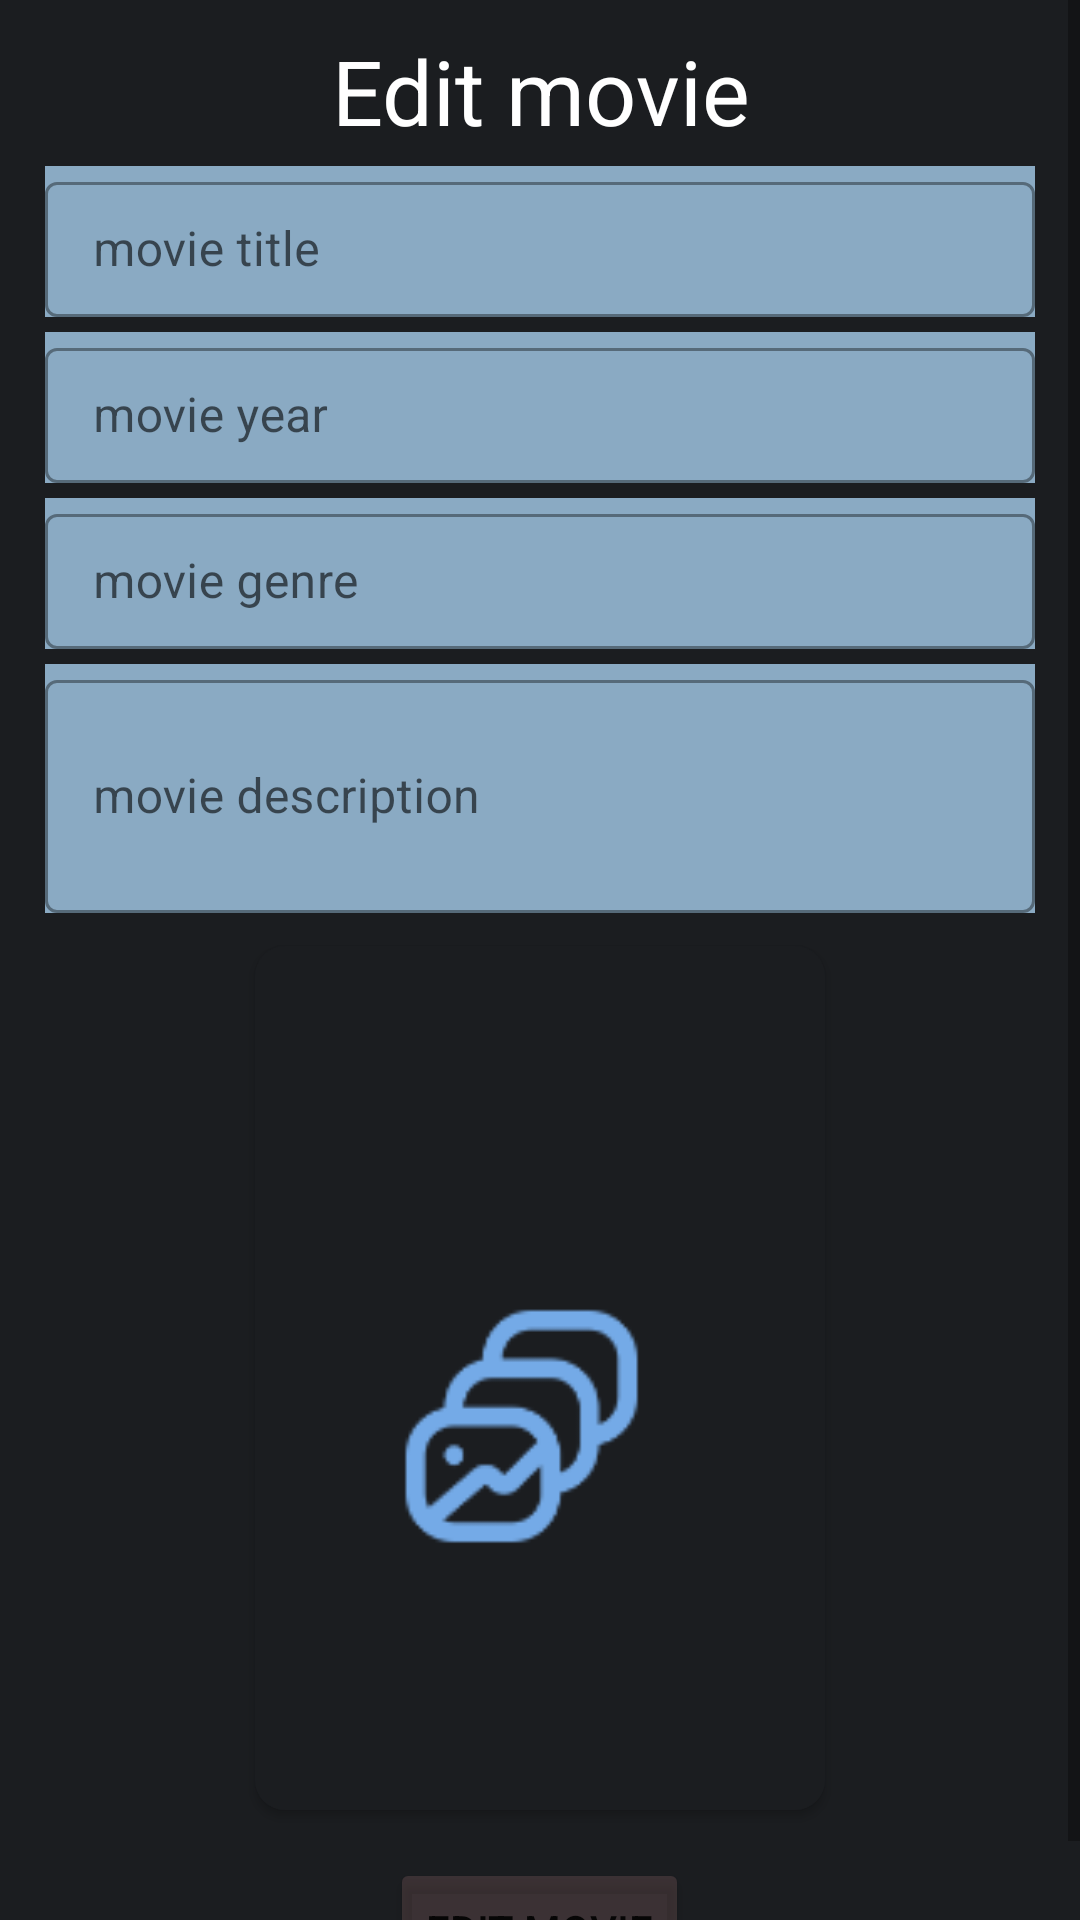

Icon bounding boxes for this 1080x1920 phone screenshot, format box=[x1, y1, x2, y2]:
add photo: box=[405, 1309, 639, 1543]
